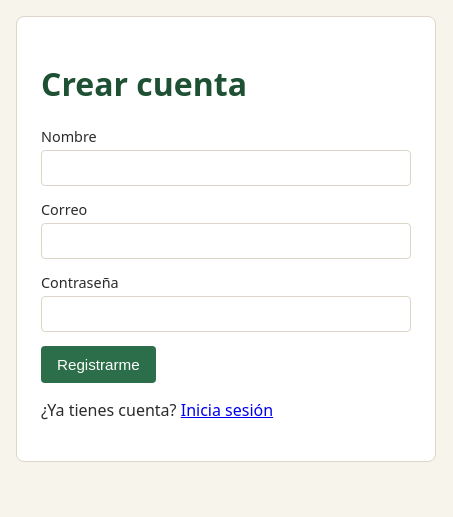
it: Página de registro (US1) › muestra el error devuelto por el API
The image size is (453, 517).
Type "Ana" into the field labelled "Nombre" at point(226, 168), box left=41, top=150, right=411, bottom=186
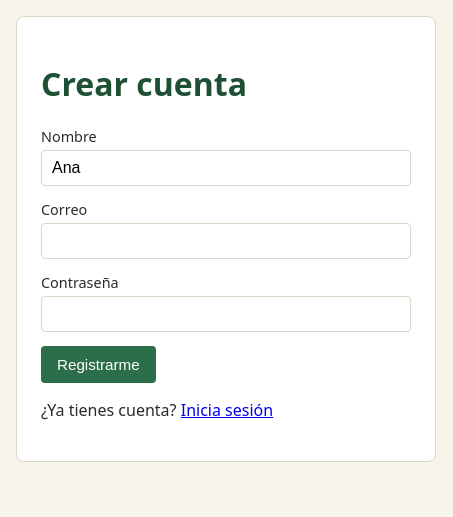
Type "ana@example.com" into the field labelled "Correo" at point(226, 241), box left=41, top=223, right=411, bottom=259
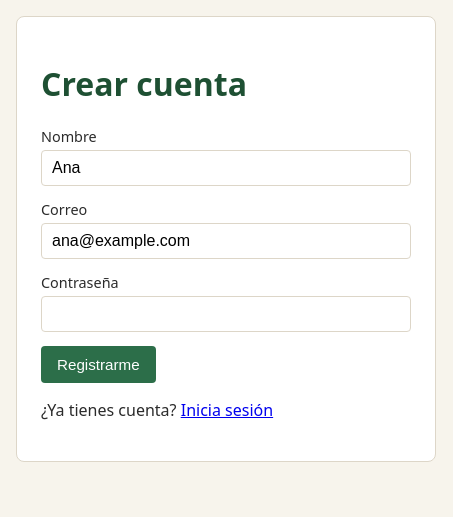
Type "clave-secreta-123" into the password field labelled "Contraseña" at point(226, 314), box left=41, top=296, right=411, bottom=332
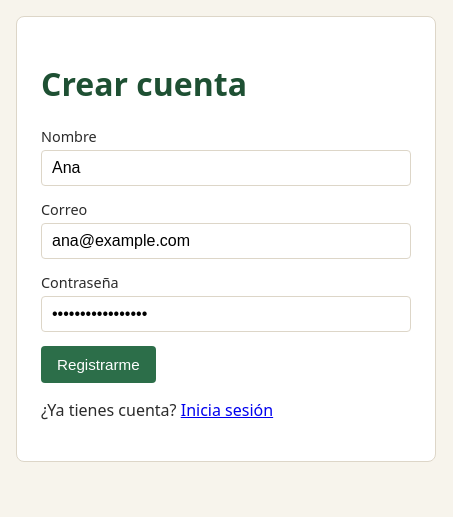
Click the button "Registrarme" at point(98, 364), box left=41, top=346, right=156, bottom=383
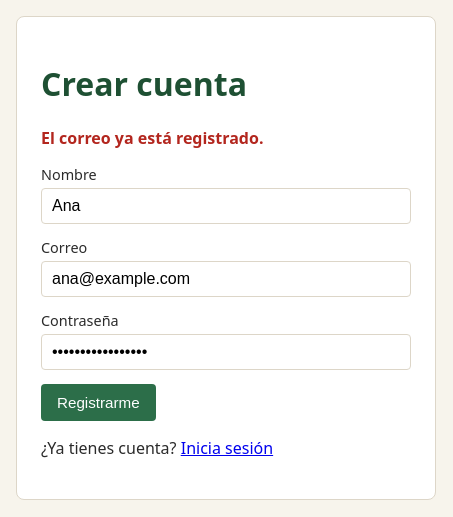
Check: the text "El correo ya está registrado." is shown, box left=41, top=127, right=264, bottom=149
